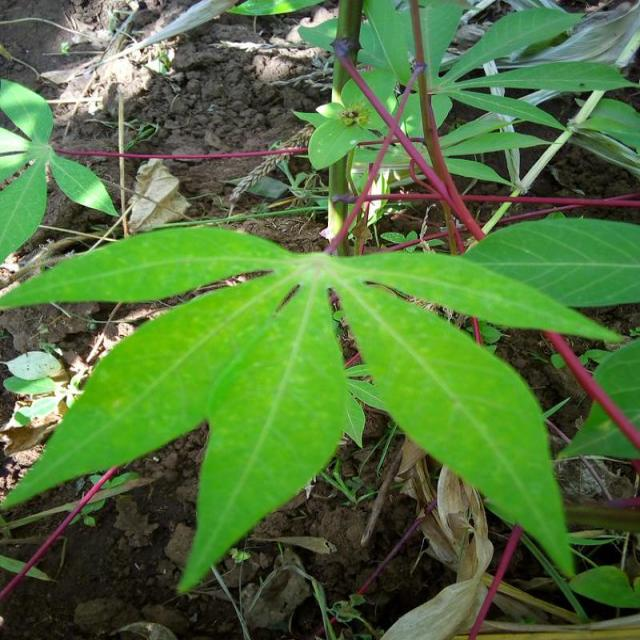cassava leaf: (1, 223, 628, 596), (329, 270, 576, 580)
